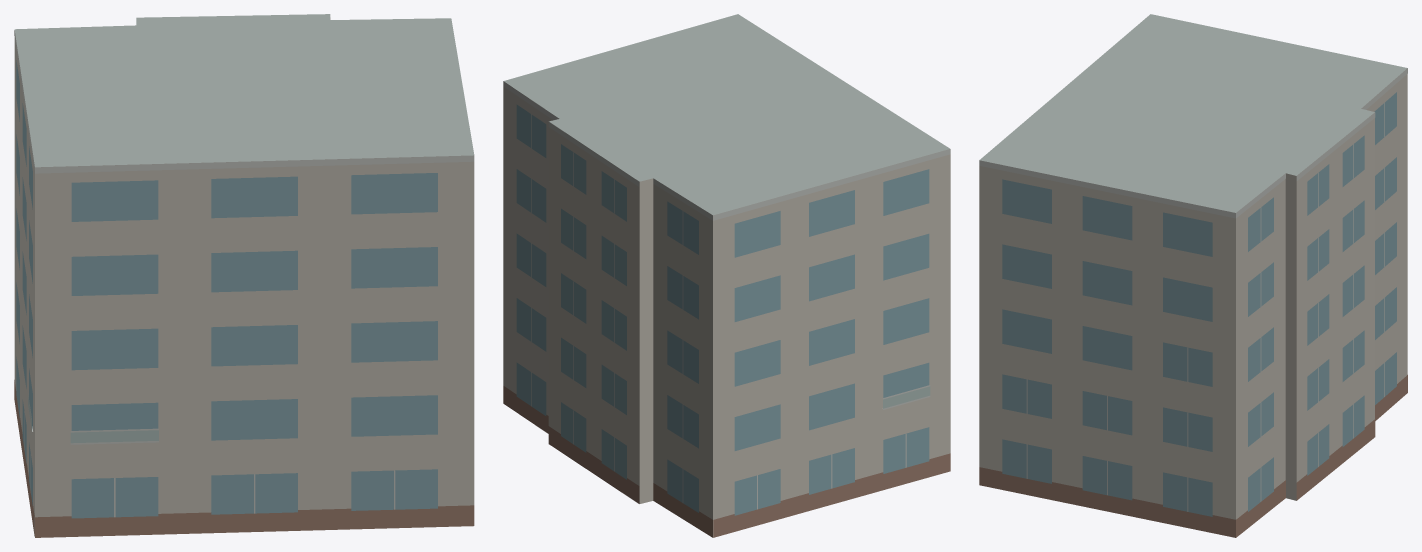
File: survey-upis-32885225.glb
3 renders of one model, left to right at view 1: azimuth 30°, elevation 25°; view 2: azimuth 150°, elevation 25°; view 3: azimuth 270°, elevation 25°, orthographic. The views are drawn at different scales.
Visible parts, largest first — view 1: survey-upis-32885225.tmp; view 2: survey-upis-32885225.tmp; view 3: survey-upis-32885225.tmp.
Boxes of the visible parts, bbox=[...] form: survey-upis-32885225.tmp: bbox=[14, 14, 474, 537]; survey-upis-32885225.tmp: bbox=[503, 14, 950, 537]; survey-upis-32885225.tmp: bbox=[979, 14, 1407, 537].
Size of the model in its own units: 18.85 by 14.35 by 17.16.
